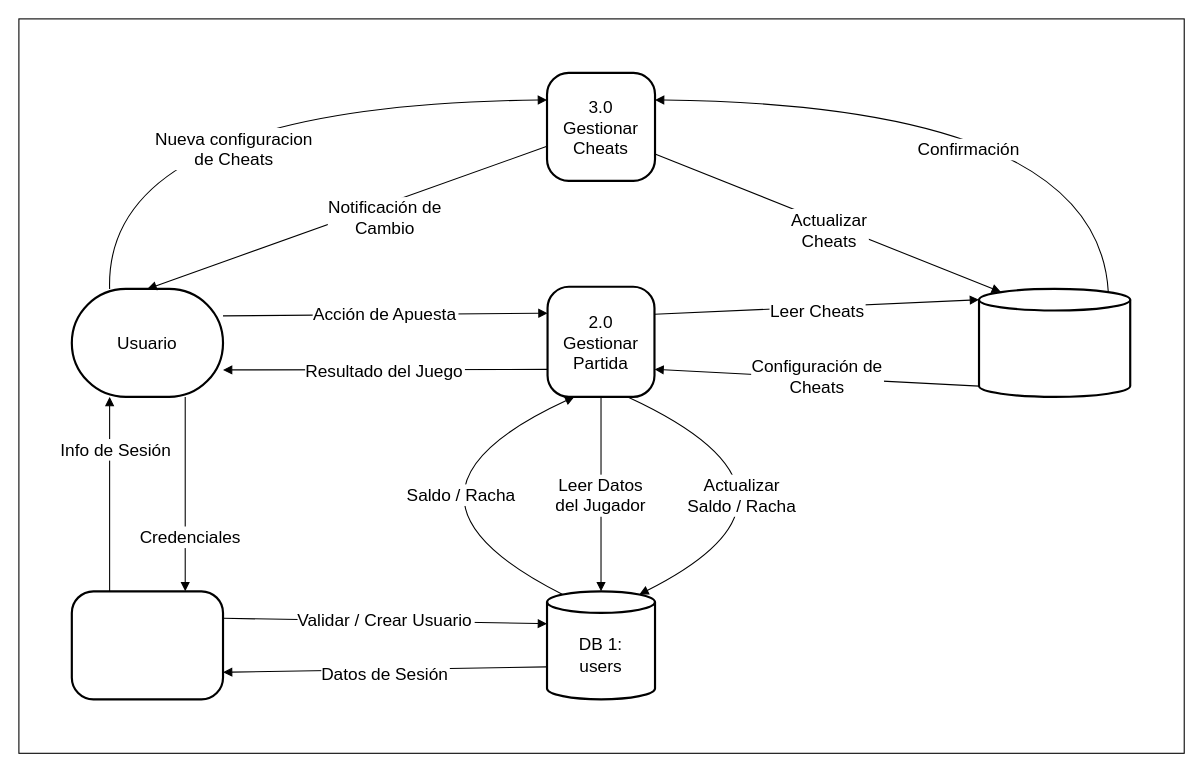
Image size: 1203x772. Some labels were removed from this diagram. Here are the shapes that lost their labels. From the top down, the box of each, then its label:
(977, 287, 1131, 397): DB 2: cheat_settings
(70, 590, 224, 700): 1.0 Gestionar Autenticación
